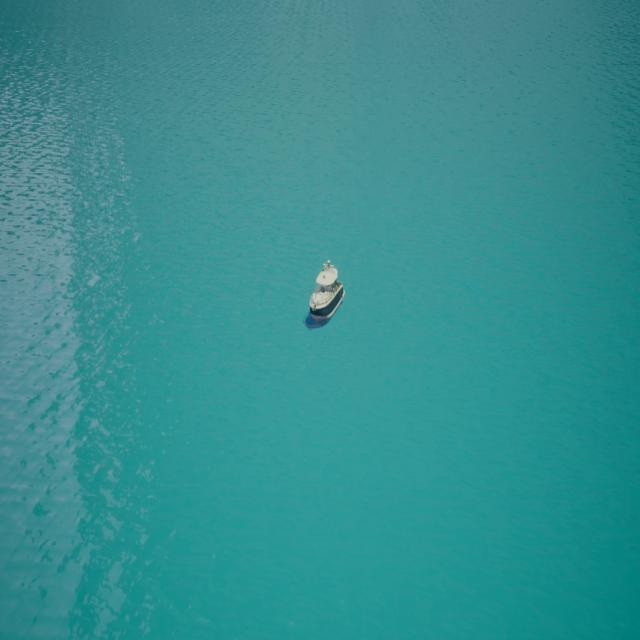ship: (304, 255, 348, 326)
